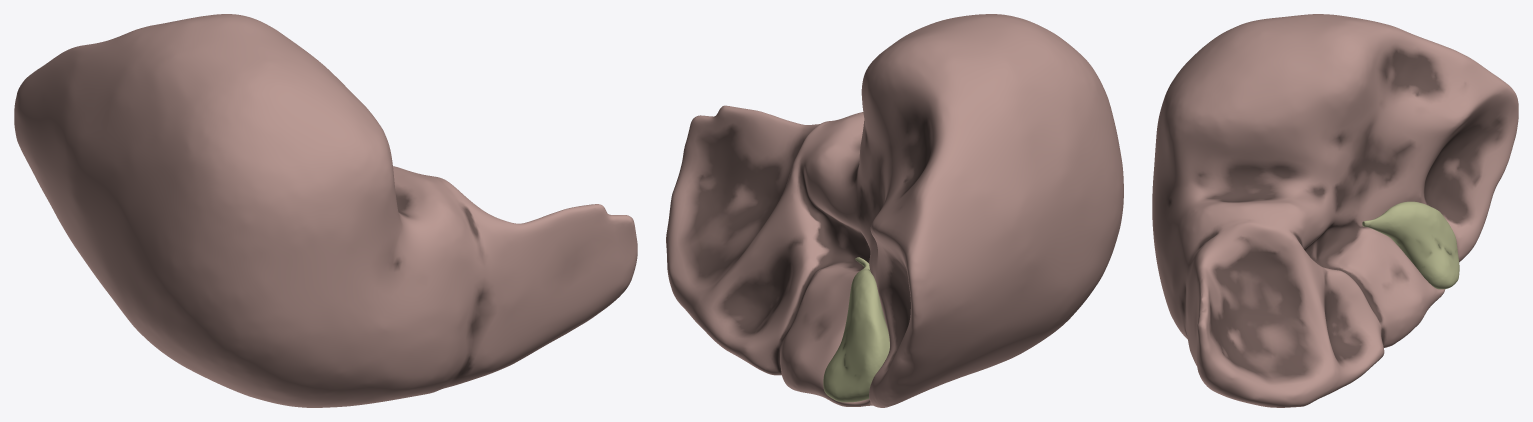
File: liver.1fca23e48c.glb
3 renders of one model, left to right at view 1: azimuth 30°, elevation 25°; view 2: azimuth 150°, elevation 25°; view 3: azimuth 270°, elevation 25°, orthographic. The views are drawn at different scales.
Parts seen in each view (by area): view 1: FMA7197; view 2: FMA7197, FMA7202; view 3: FMA7197, FMA7202.
Part boxes in pixels (x1=…): FMA7197: x1=14, y1=14, x2=637, y2=407; FMA7197: x1=666, y1=14, x2=1123, y2=407; FMA7202: x1=823, y1=257, x2=889, y2=402; FMA7197: x1=1152, y1=14, x2=1518, y2=407; FMA7202: x1=1362, y1=201, x2=1459, y2=289.
Size of the model in its own units: 199 by 150 by 173.
